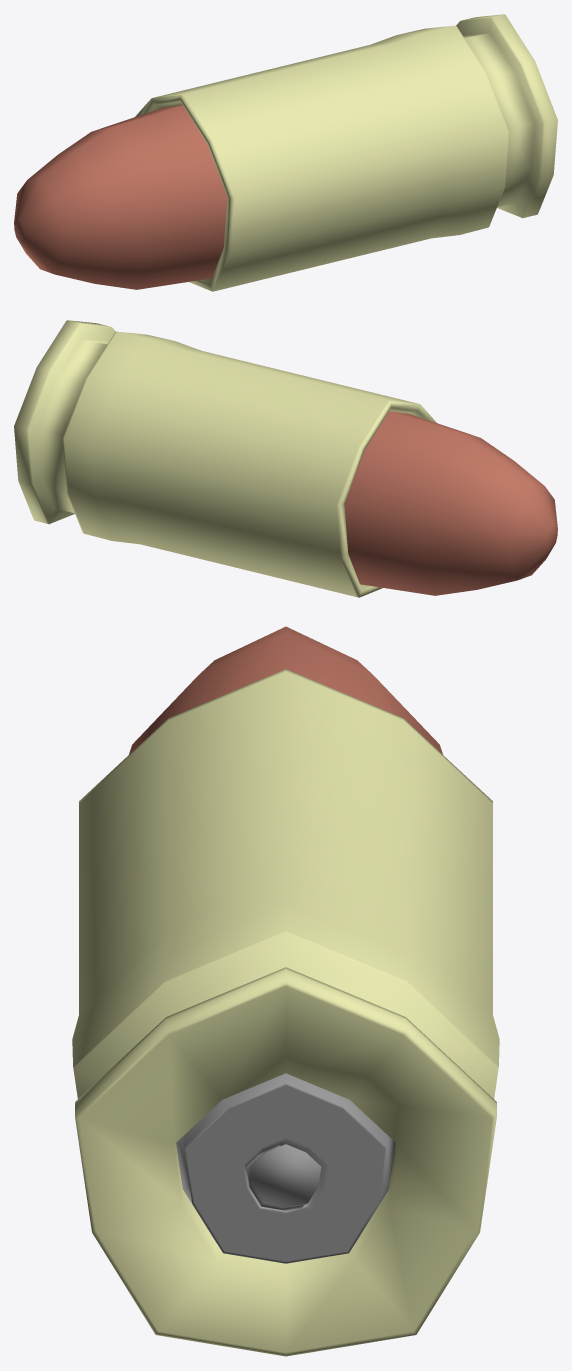
File: Bullet.fbx
3 views of the same model, one above another, from view 1: azimuth 30°, elevation 25°; view 2: azimuth 150°, elevation 25°; view 3: azimuth 270°, elevation 25° (orthographic). The views are drawn at different scales.
Visible parts, largest first — view 1: Cylinder; view 2: Cylinder; view 3: Cylinder.
Boxes of the visible parts, bbox=[...] form: Cylinder: bbox=[14, 14, 557, 291]; Cylinder: bbox=[14, 320, 557, 597]; Cylinder: bbox=[72, 626, 499, 1356].
Bounding box in the file's own units: 7 × 2.61 × 2.67.
